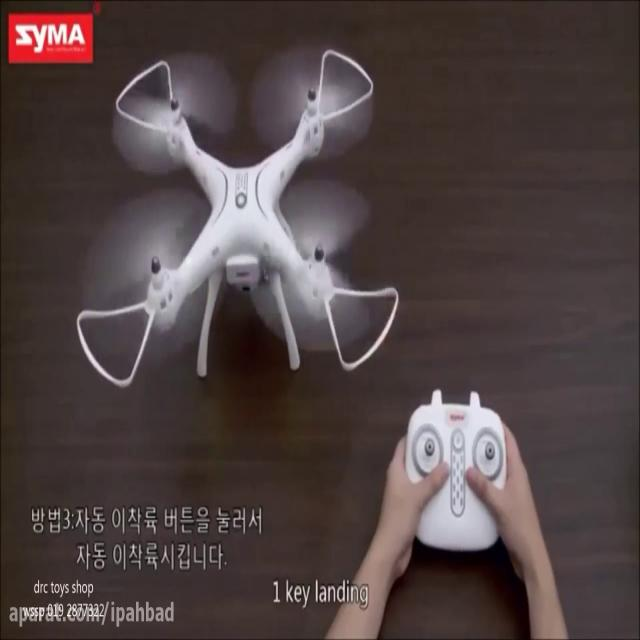drone: (75, 43, 399, 390)
